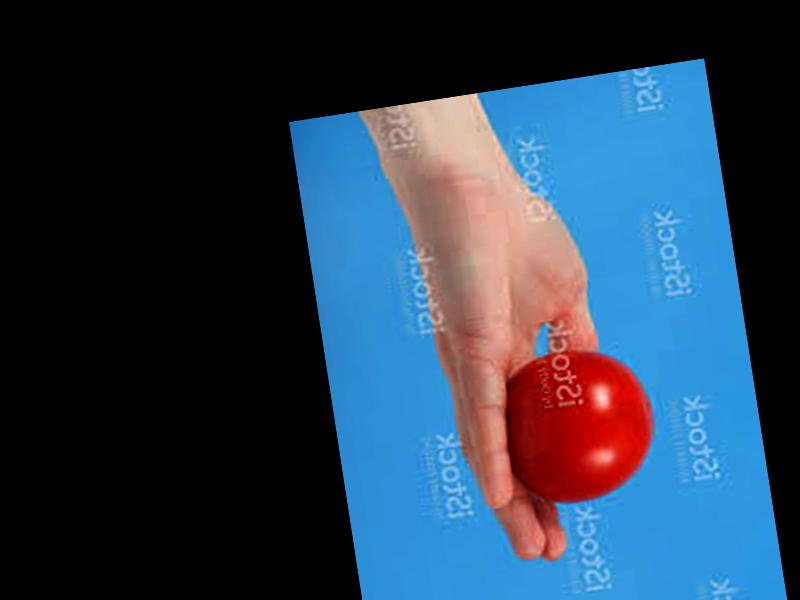Tomato: (497, 342, 660, 510)
